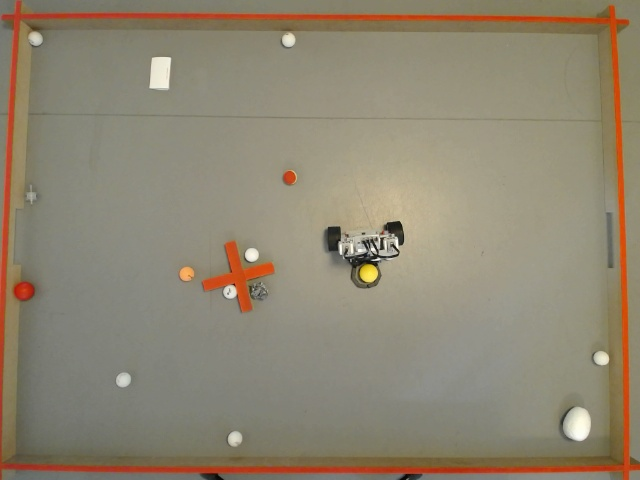big_goal: (14, 209, 22, 264), (606, 213, 614, 267)
cross: (203, 243, 276, 312)
egg: (562, 408, 591, 443)
orange: (180, 266, 195, 282)
robot: (326, 219, 404, 288)
wall: (16, 27, 608, 455)
white: (230, 429, 244, 447), (116, 371, 130, 387), (592, 351, 608, 365), (28, 33, 44, 45), (281, 33, 294, 47), (224, 285, 234, 299), (246, 249, 256, 261)
